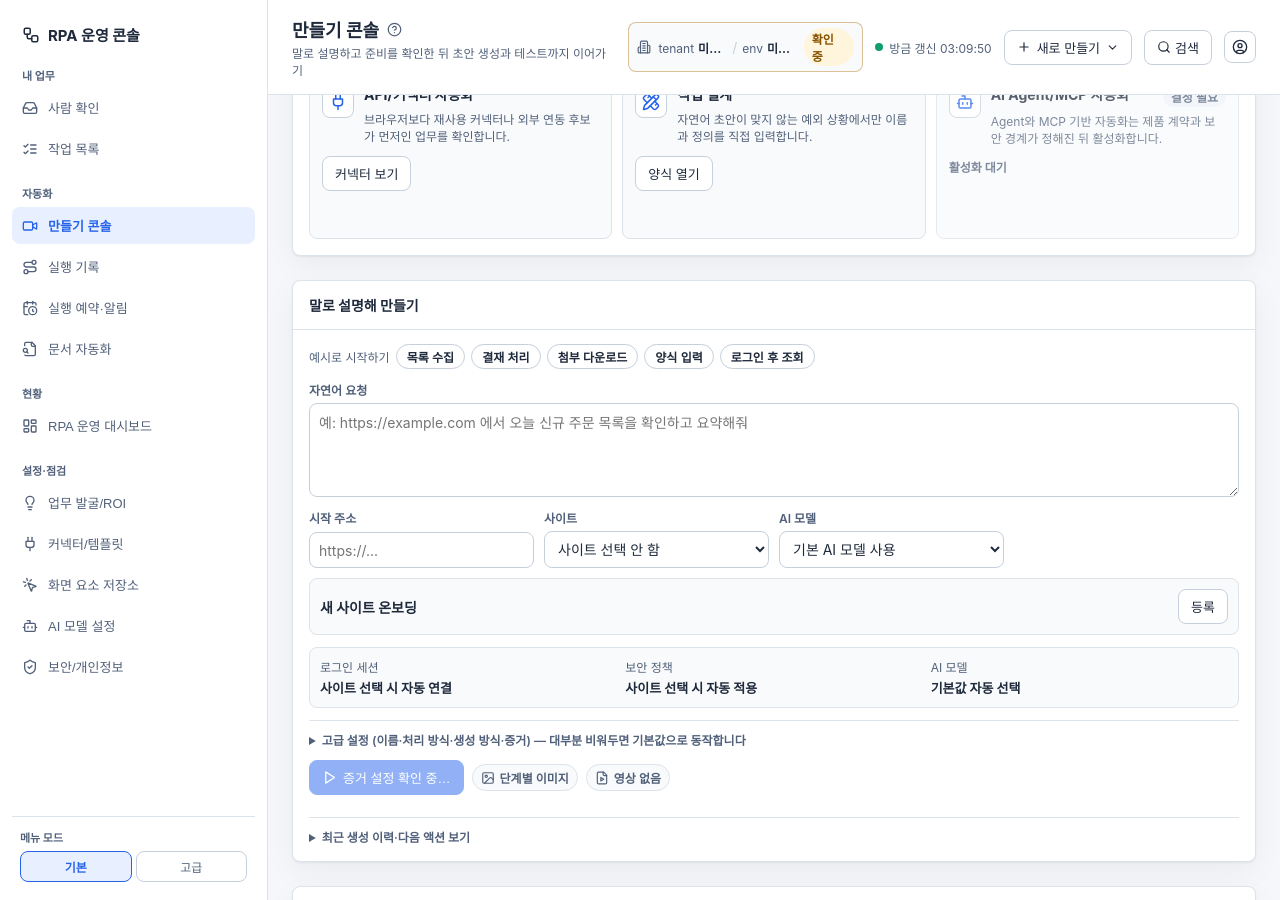
Test case: create one-pass shell (F3) › PREVIEW: F2 말로 고치기(ReviseControl)·변경 표시가 원패스 셸에서 유실되지 않는다
(page scrolled)
Type "주문 목록을 확인해줘" into the text box labelled "자연어 요청".
click(774, 450); type("주문 목록을 확인해줘")  # box [309, 403, 1239, 497]
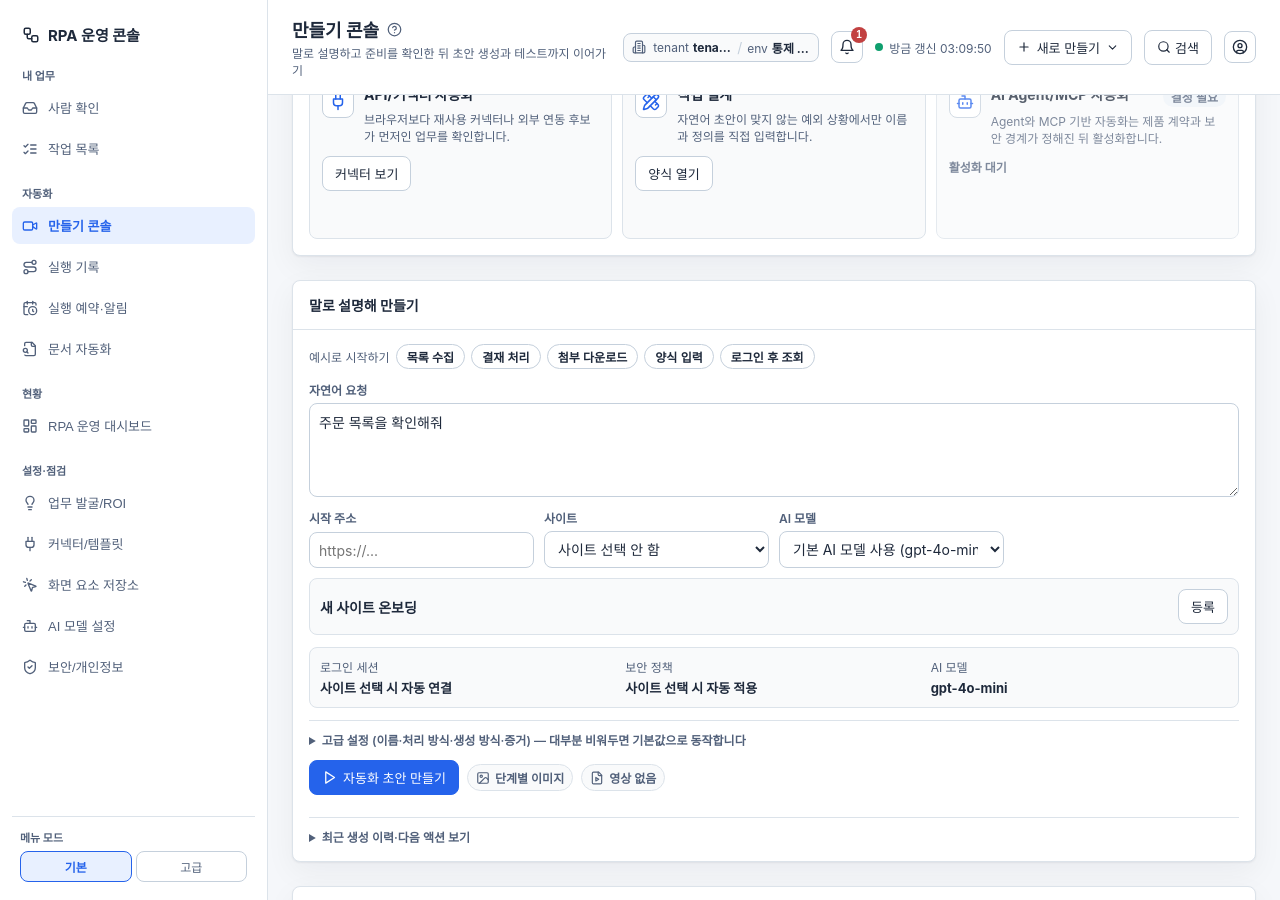
Expected: the button "자동화 초안 만들기" is enabled
Click the button "자동화 초안 만들기".
click(384, 778)  # box [309, 760, 459, 795]
(page scrolled)
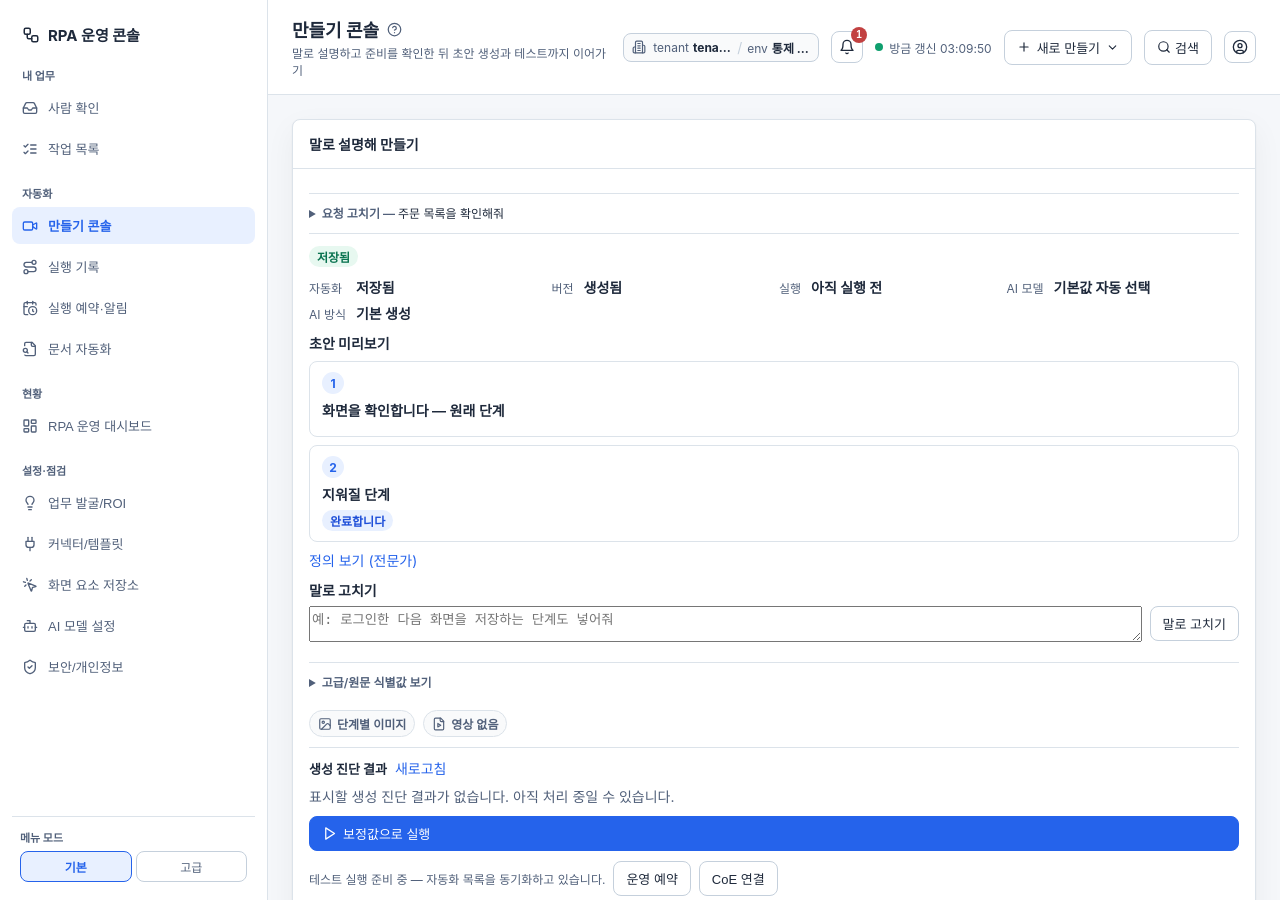
Expected: the text "초안 미리보기" is shown, [309, 335, 390, 352]
Type "b 단계는 빼줘" into the text box named "수정 요청 입력".
click(725, 624); type("b 단계는 빼줘")  # box [309, 606, 1142, 642]
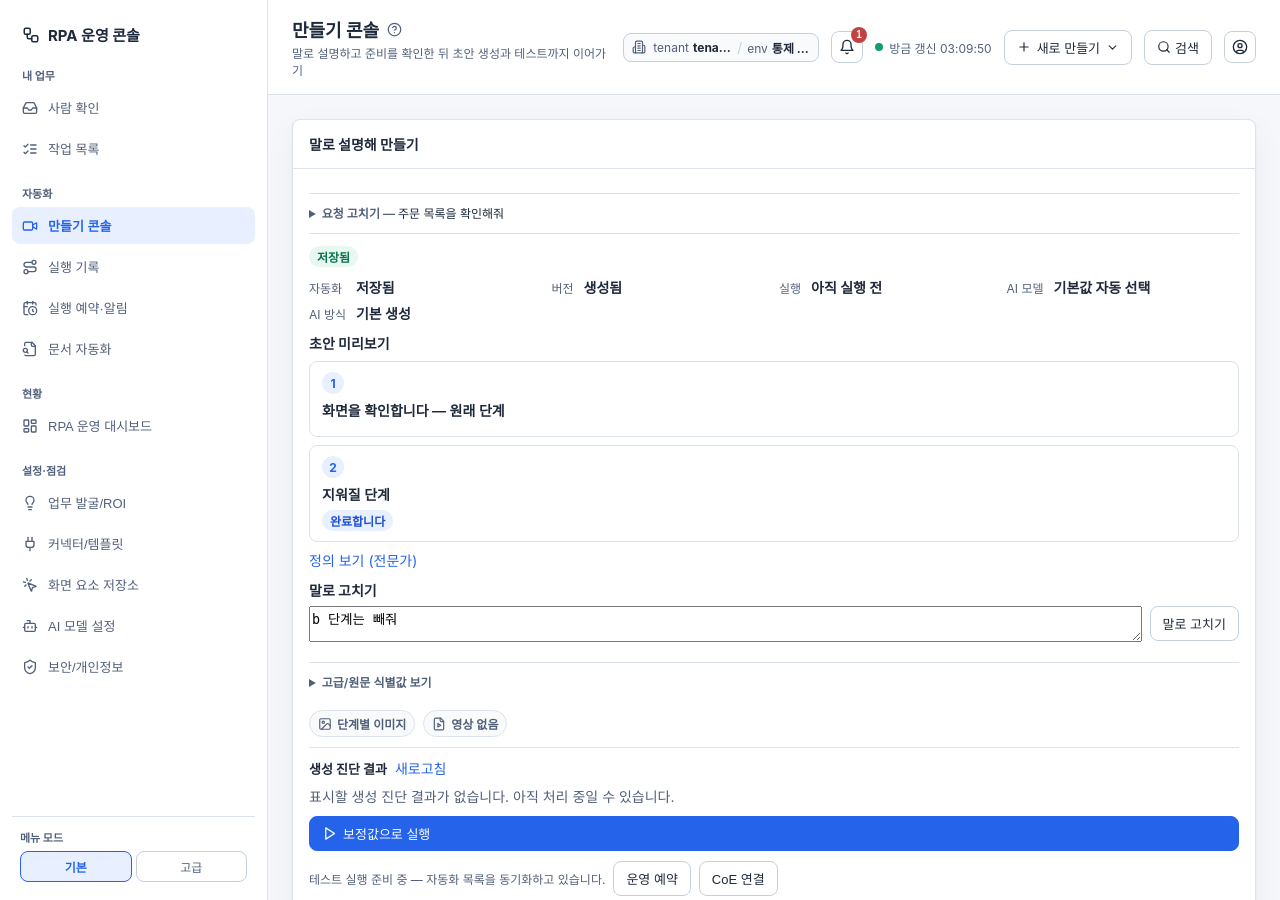
Click the button "말로 고치기".
click(1194, 624)  # box [1150, 606, 1239, 641]
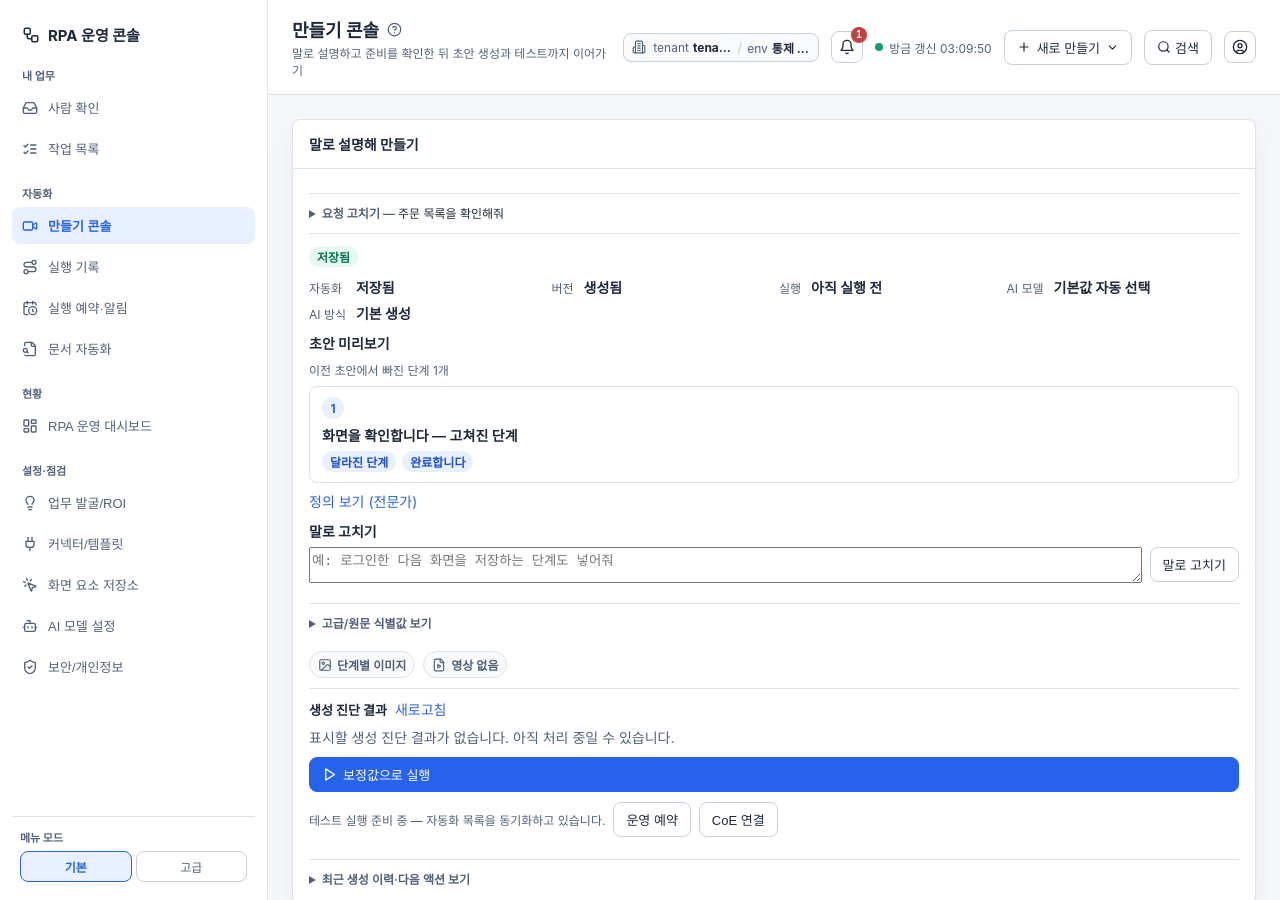
Expected: the text "화면을 확인합니다 — 고쳐진 단계" is shown, [322, 425, 518, 445]
Expected: the text "달라진 단계" is shown, [322, 451, 396, 472]
Expected: the text "이전 초안에서 빠진 단계 1개" is shown, [309, 363, 449, 378]
